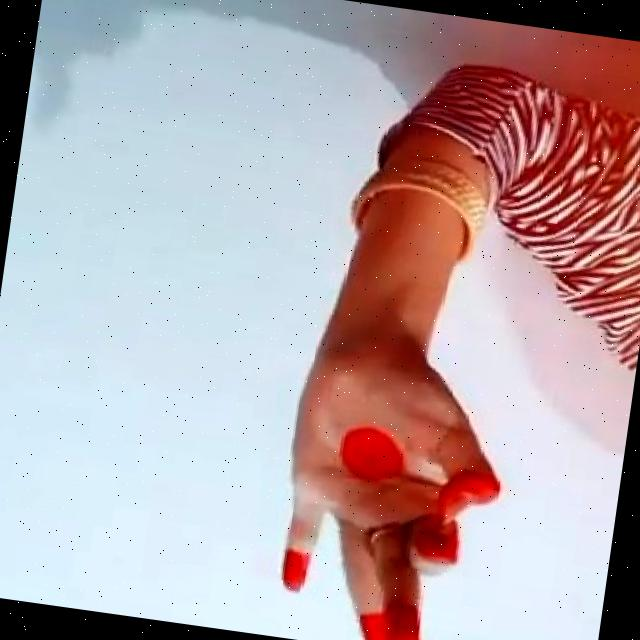Hamsasya: (235, 331, 530, 640)
bangle: (306, 136, 515, 294)
